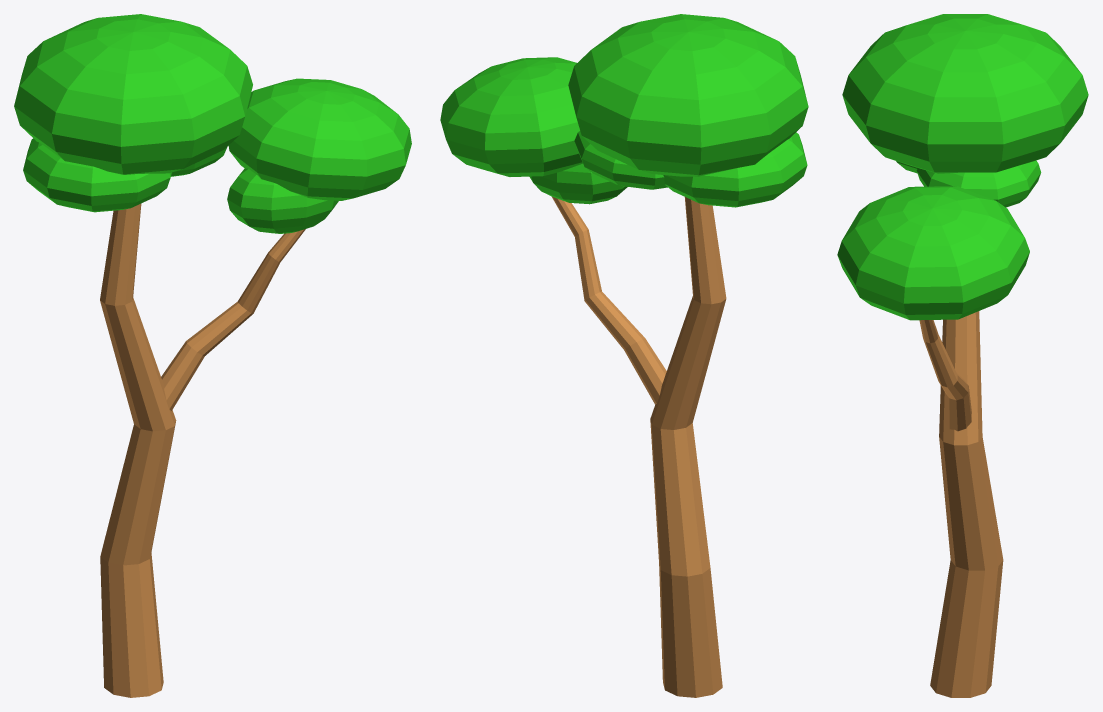
Rendered from Tree 1.fbx.
3 renders of one model, left to right at view 1: azimuth 30°, elevation 25°; view 2: azimuth 150°, elevation 25°; view 3: azimuth 270°, elevation 25°, orthographic.
Parts seen in each view (by area): view 1: Sphere.003; view 2: Sphere.003; view 3: Sphere.003.
Part boxes in pixels (x1=…): Sphere.003: x1=14, y1=14, x2=411, y2=697; Sphere.003: x1=440, y1=14, x2=808, y2=697; Sphere.003: x1=837, y1=14, x2=1088, y2=697.
Bounding box in the file's own units: 3.31 × 5.88 × 2.04.
